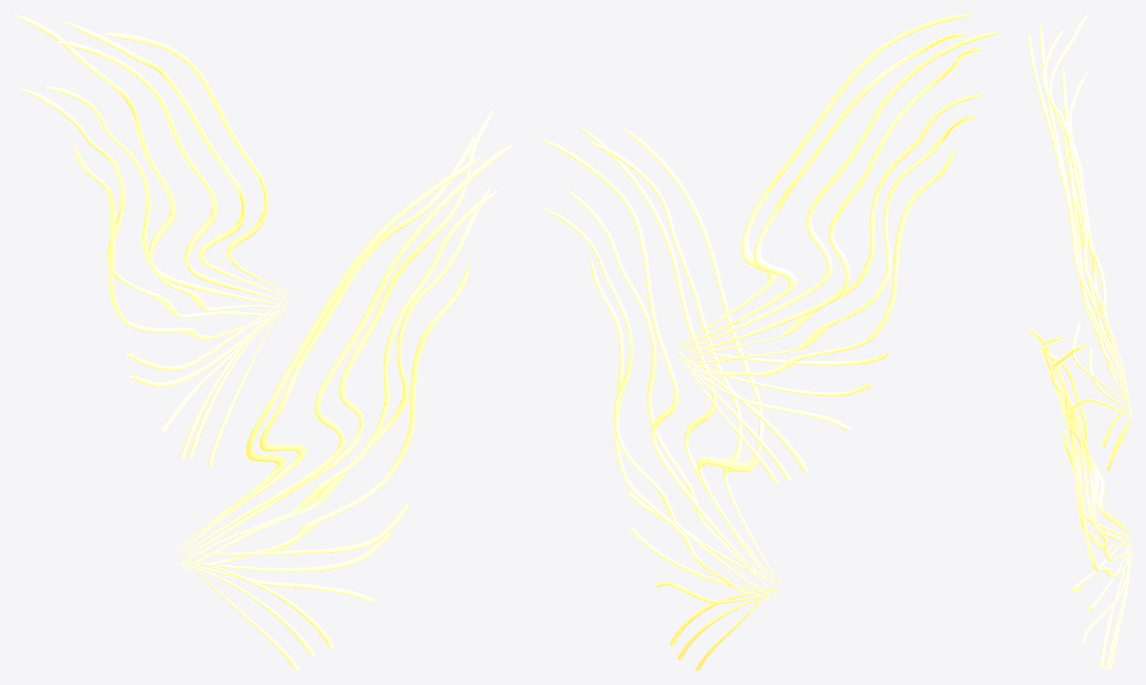
File: kanat_isik.glb
3 renders of one model, left to right at view 1: azimuth 30°, elevation 25°; view 2: azimuth 150°, elevation 25°; view 3: azimuth 270°, elevation 25°, orthographic. The views are drawn at different scales.
Parts seen in each view (by area): view 1: sag, sol; view 2: sag, sol; view 3: sol, sag.
Part boxes in pixels (x1,y1,x2,y2): sag: (219, 111, 512, 670); sol: (14, 14, 263, 601); sag: (541, 127, 768, 670); sol: (730, 14, 999, 625); sol: (1028, 14, 1131, 594); sag: (1028, 258, 1131, 670).
Size of the model in its own units: 1.15 by 1.69 by 0.2891.
